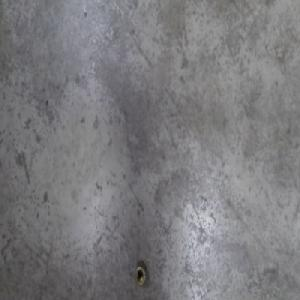Nut: (134, 263, 147, 287)
